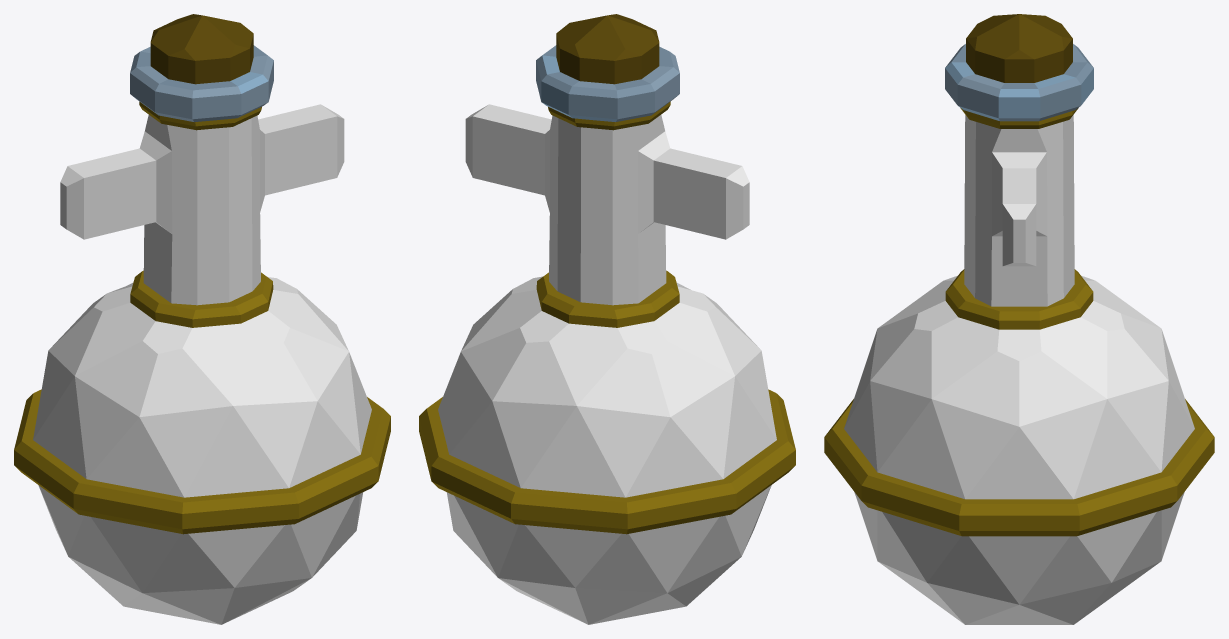
File: health-potion.fbx
3 renders of one model, left to right at view 1: azimuth 30°, elevation 25°; view 2: azimuth 150°, elevation 25°; view 3: azimuth 270°, elevation 25°, orthographic.
Parts seen in each view (by area): view 1: Icosphere; view 2: Icosphere; view 3: Icosphere.
Boxes of the visible parts, left/top/right/bottom form: Icosphere: left=14, top=14, right=390, bottom=624; Icosphere: left=419, top=14, right=795, bottom=624; Icosphere: left=824, top=14, right=1214, bottom=624.
Size of the model in its own units: 222 by 212 by 379.
